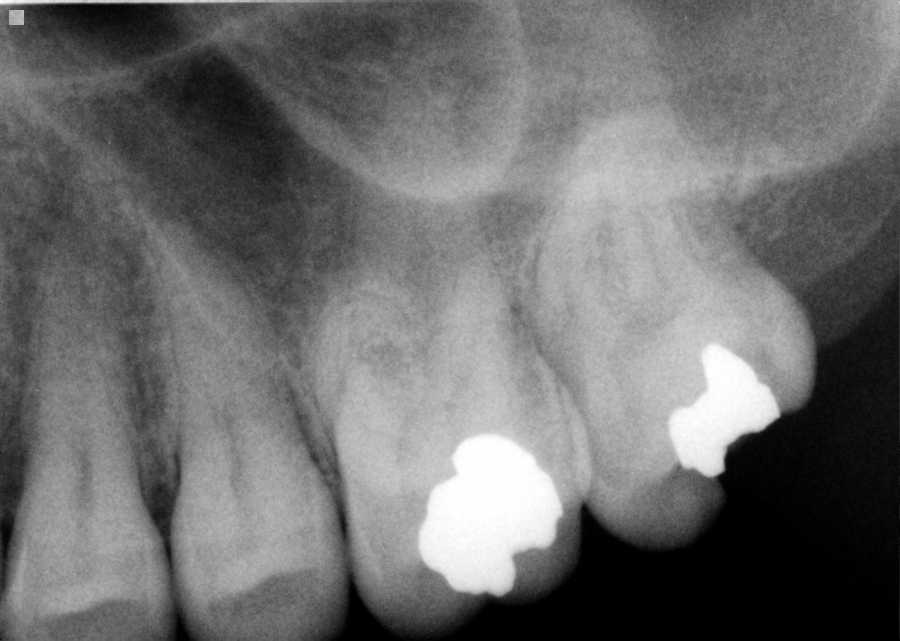Distal Root: (611, 146, 698, 296), (429, 256, 515, 396)
Main Canal: (211, 391, 246, 486), (70, 422, 92, 505)
Main Root: (141, 196, 315, 491), (17, 224, 143, 509)
Mesial Root: (528, 171, 625, 381), (308, 294, 407, 457)
Palatal Root: (339, 62, 527, 432), (572, 0, 746, 320)
